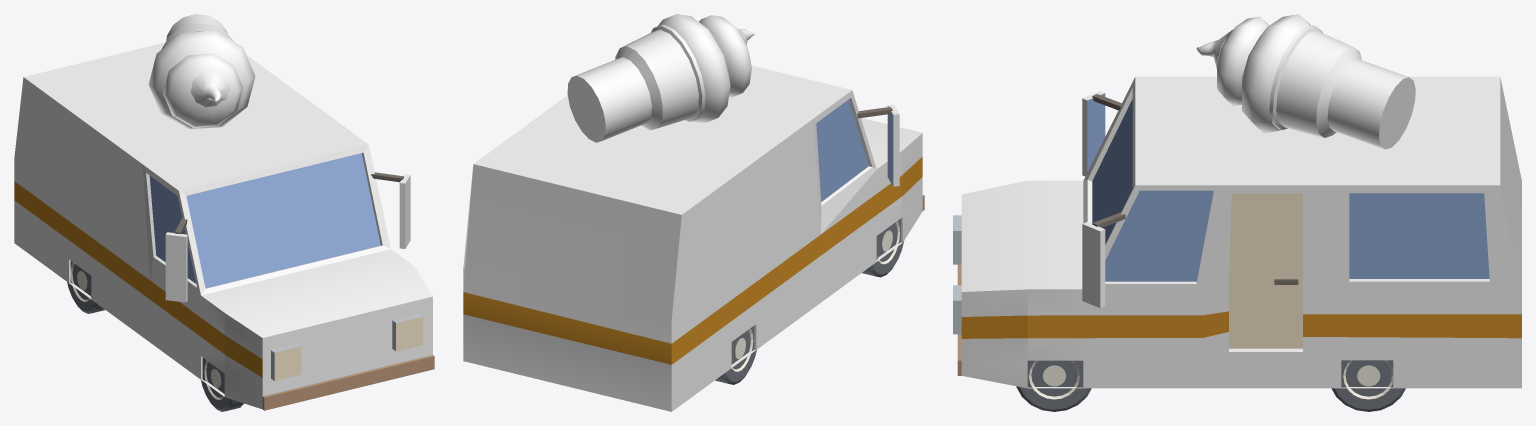
The model's file is car2.fbx.
3 views of the same model, side by side, from view 1: azimuth 30°, elevation 25°; view 2: azimuth 150°, elevation 25°; view 3: azimuth 270°, elevation 25° (orthographic). The views are drawn at different scales.
Visible parts, largest first — view 1: polySurface477; view 2: polySurface477; view 3: polySurface477.
Part boxes in pixels (<box>): polySurface477: <box>14,14,434,411</box>; polySurface477: <box>463,14,924,411</box>; polySurface477: <box>953,14,1521,411</box>.
Bounding box in the file's own units: 1.36 × 1.51 × 2.33.
